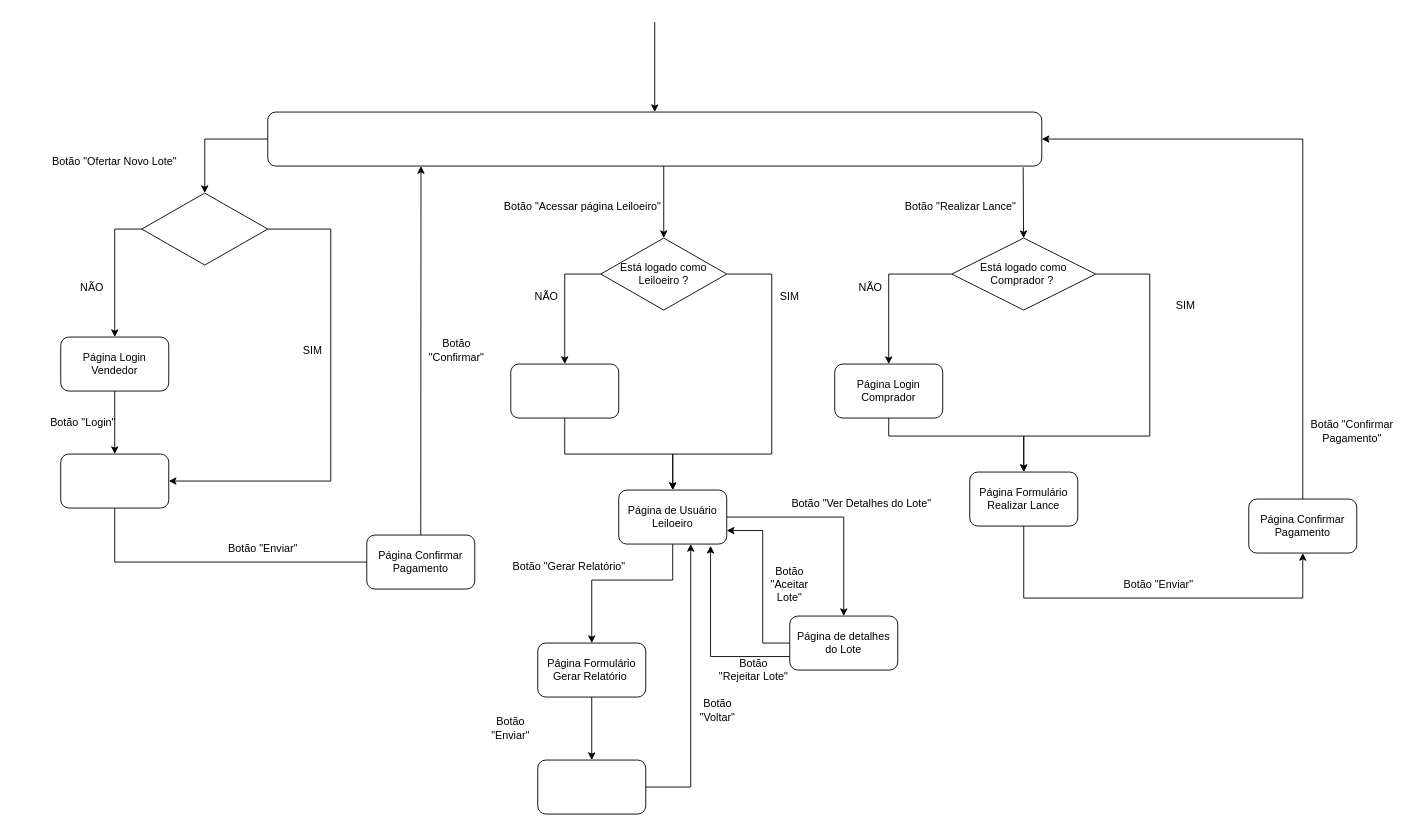
This 1417x830 diagram has some shape labels left out. Here are the shapes that lost their labels. From the top down, the centre of each, then its label:
(654,138): Página Inicial
(204,228): Está logado como Vendedor ?
(564,390): Página Login Leiloeiro
(114,480): Página Formulário Ofertar Novo Lote
(591,786): Página Relatório
